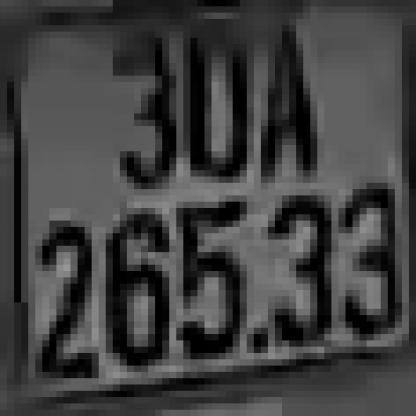0: (190, 32, 247, 176)
2: (28, 220, 99, 372)
3: (113, 44, 183, 189), (261, 202, 324, 340), (338, 189, 395, 334)
5: (176, 202, 240, 353)
6: (106, 208, 176, 359)
A: (247, 25, 317, 177)
